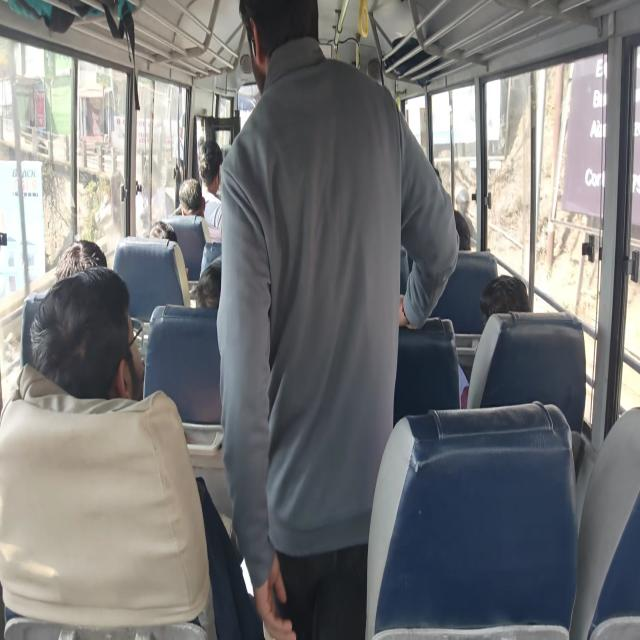person: (216, 0, 460, 638), (25, 264, 264, 638), (27, 265, 145, 401), (458, 274, 532, 408), (479, 274, 532, 327), (197, 138, 223, 231), (54, 238, 107, 282), (194, 255, 222, 309), (177, 177, 206, 217)
